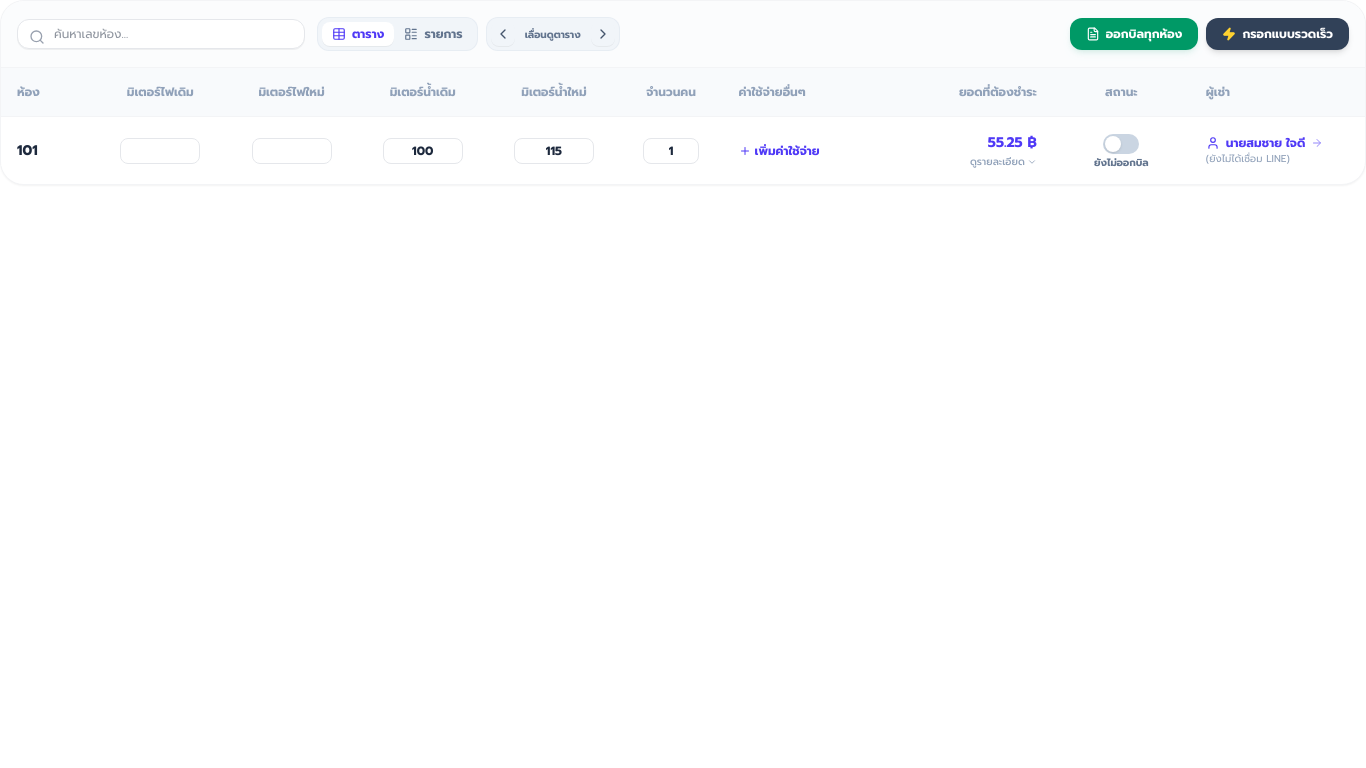
Test case: OWNER R3.9-E.1A — Tiered Meter Workspace Suite › Owner Meter Workspace: Table & List Integration › Section 20: Table Mode dirty-after-save regression: Server preview 55.25 overridden by unsaved 100->120 (76.50), restored on revert
Expected: the row with test id "meter-row-room-101" is shown, left=1, top=116, right=1365, bottom=184
Expected: the text "55.25 ฿" is shown, left=988, top=133, right=1037, bottom=153
Edit water current to 120
Step 1. Replace the text in the 5th field with "120" → (554, 151), box left=514, top=138, right=594, bottom=164
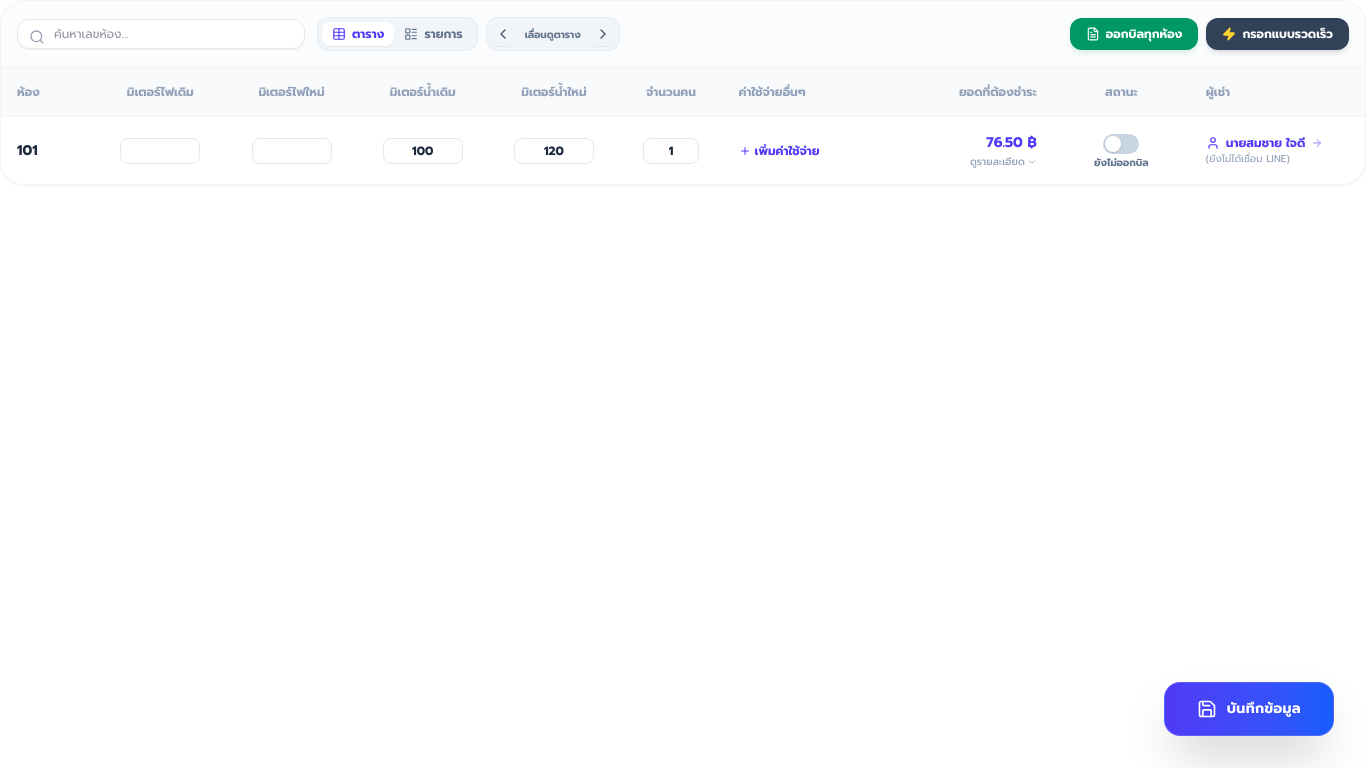
Now the text "76.50 ฿" is shown, box left=986, top=133, right=1037, bottom=153
Revert back to 115
Step 2. Replace the text in the 5th field with "115" → (554, 151), box left=514, top=138, right=594, bottom=164
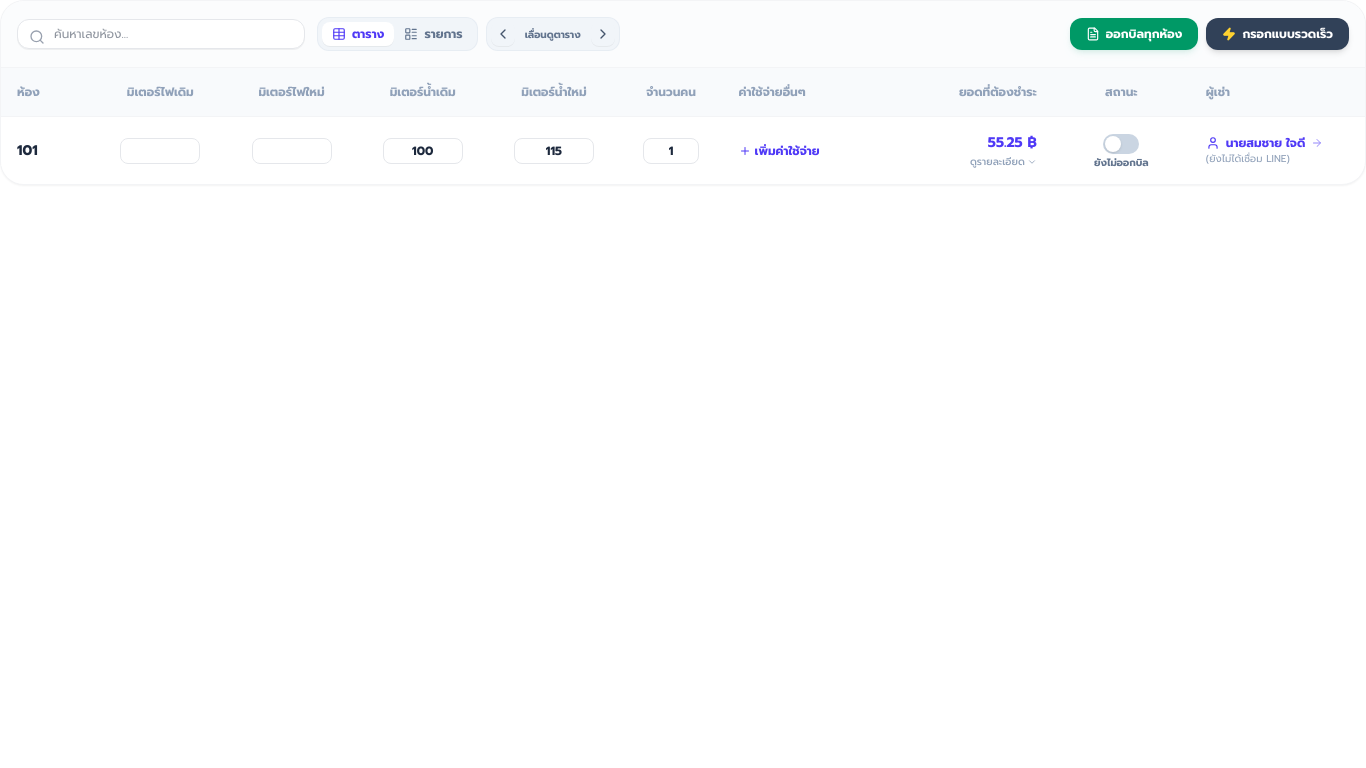
Now the text "55.25 ฿" is shown, box left=988, top=133, right=1037, bottom=153
